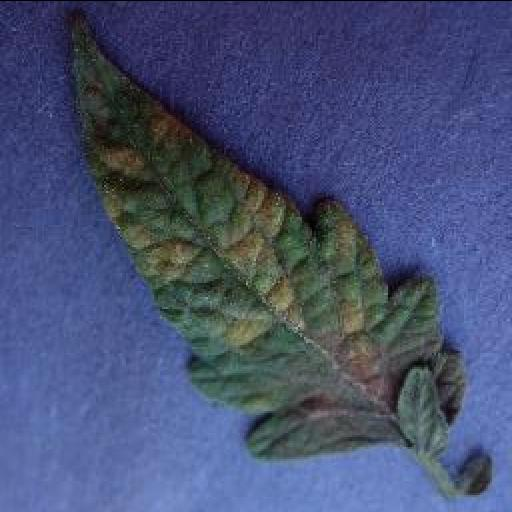disease_tomato: (64, 9, 466, 453)
